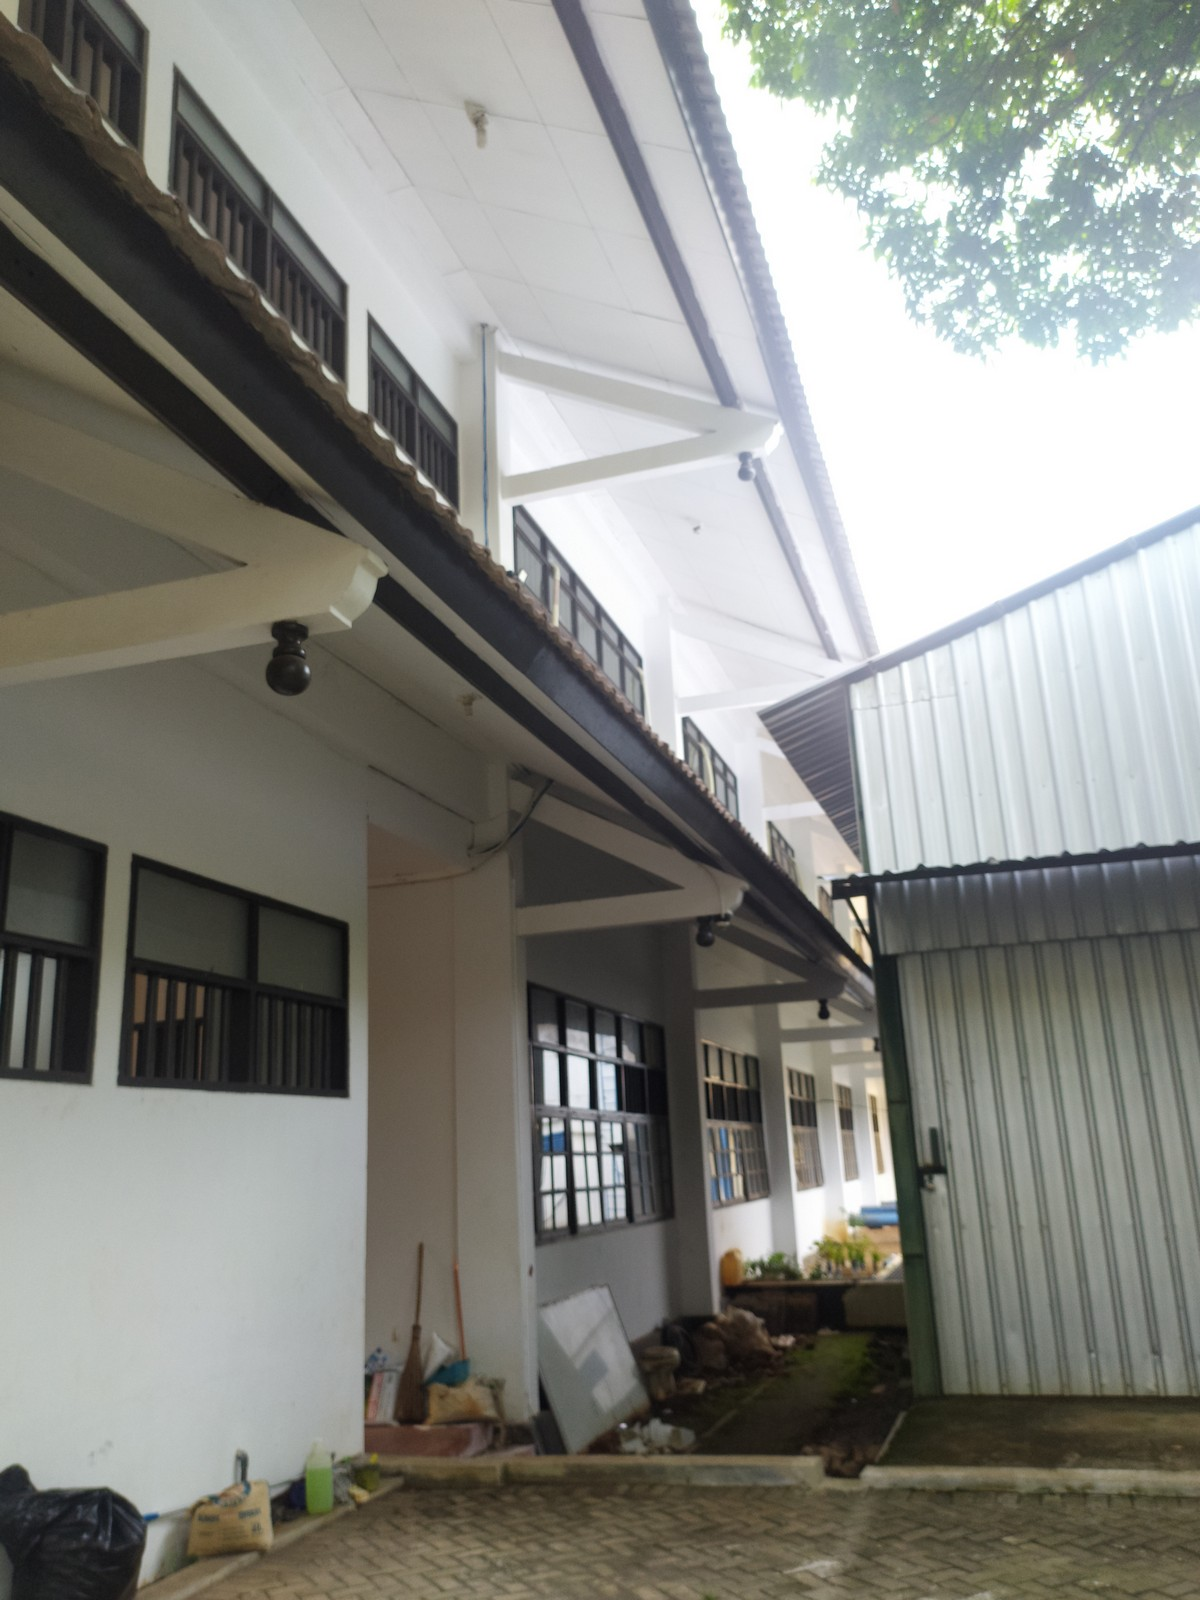concrete beam: (1, 569, 245, 703)
concrete column: (441, 769, 561, 1431), (650, 923, 725, 1325)
